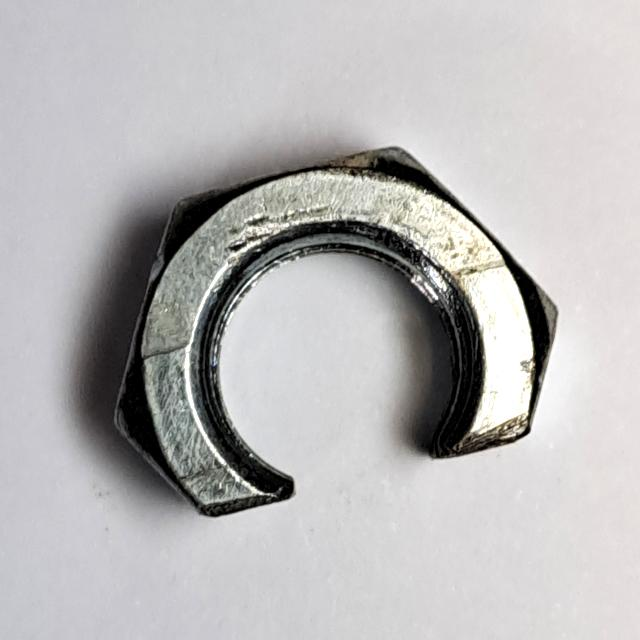Fracture: (100, 134, 573, 534)
